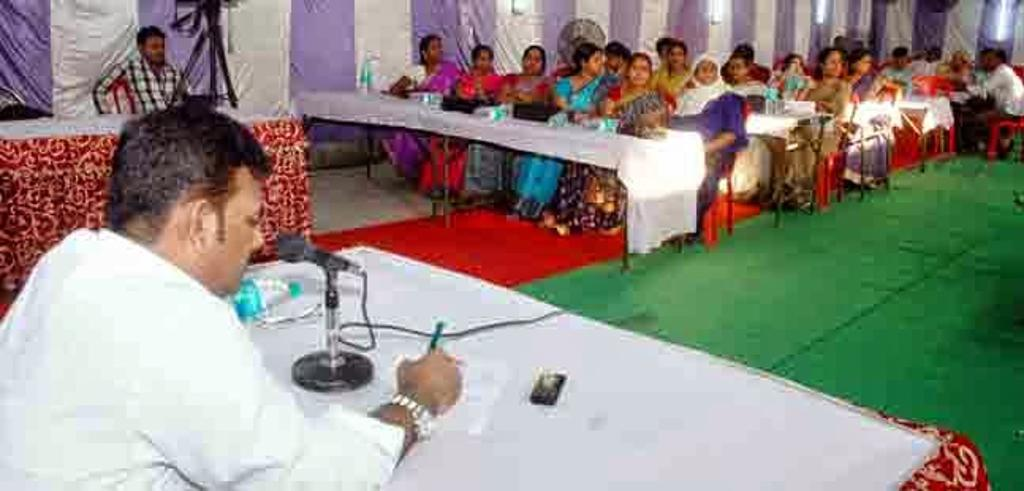face: (191, 178, 265, 295), (145, 37, 166, 63), (697, 64, 718, 85), (526, 51, 544, 75), (632, 61, 649, 86), (827, 55, 843, 77), (669, 47, 685, 68), (429, 40, 444, 61), (587, 53, 601, 74), (731, 60, 746, 79), (608, 54, 625, 69), (857, 57, 872, 74), (476, 51, 490, 69), (987, 54, 998, 68), (895, 54, 907, 66)
